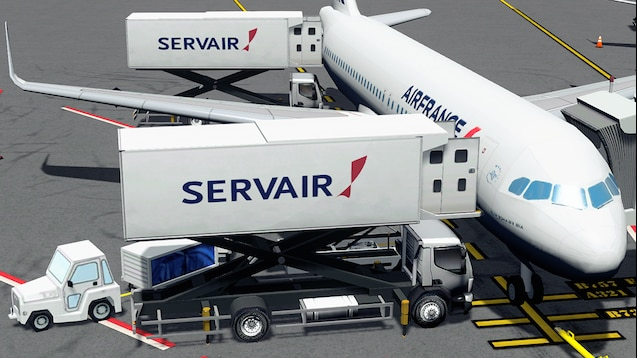Catering truck: (96, 103, 505, 340), (117, 8, 344, 89)
